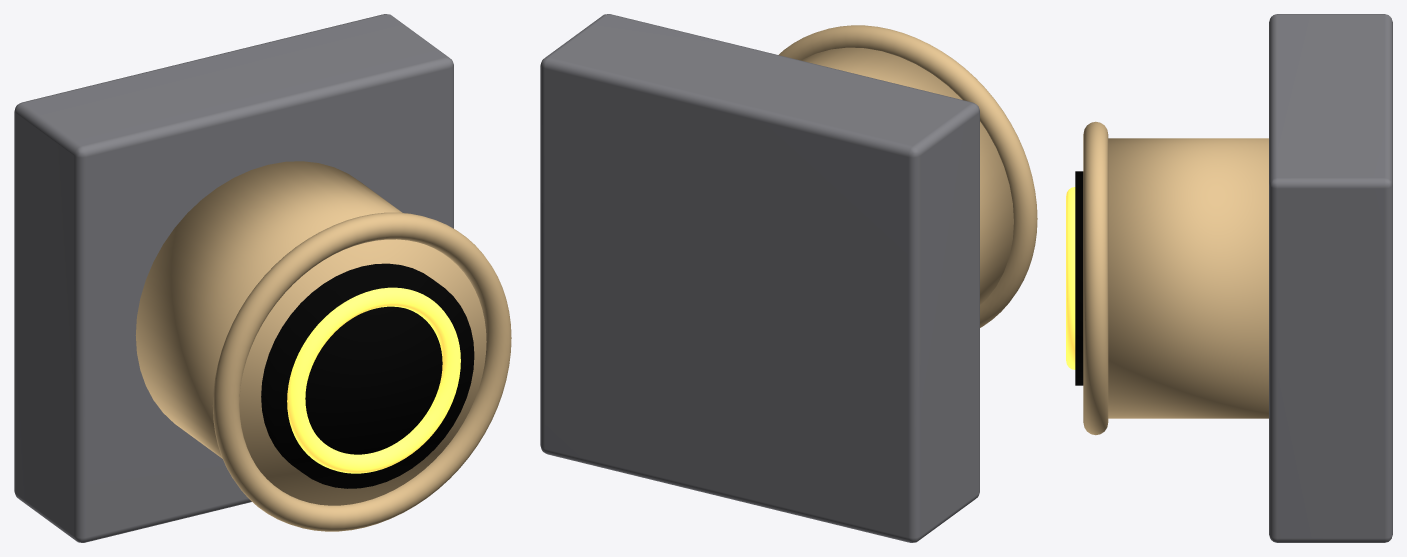
The model's file is eye.glb.
The picture shows the model from 3 angles, left to right: view 1: azimuth 30°, elevation 25°; view 2: azimuth 150°, elevation 25°; view 3: azimuth 270°, elevation 25°; orthographic projection. The views are drawn at different scales.
Parts seen in each view (by area): view 1: housing, barrel_body, lens, bezel, iris; view 2: housing, bezel, barrel_body; view 3: housing, barrel_body, bezel, lens, iris.
Part boxes in pixels (left/top/right/bottom): housing: left=14, top=14, right=453, bottom=542; barrel_body: left=135, top=161, right=486, bottom=505; lens: left=261, top=263, right=474, bottom=488; bezel: left=212, top=212, right=511, bottom=531; iris: left=287, top=287, right=460, bottom=473; housing: left=540, top=14, right=979, bottom=542; bezel: left=779, top=25, right=1037, bottom=327; barrel_body: left=801, top=47, right=1013, bottom=304; housing: left=1269, top=14, right=1392, bottom=542; barrel_body: left=1108, top=138, right=1268, bottom=418; bezel: left=1083, top=121, right=1108, bottom=435; lens: left=1075, top=171, right=1083, bottom=385; iris: left=1066, top=187, right=1075, bottom=369.
Bounding box in the file's own units: 0.975 × 0.975 × 0.792.
